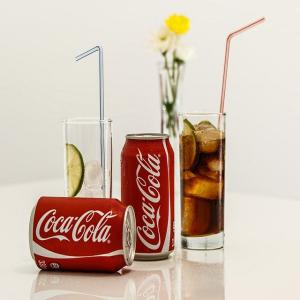Can: (29, 195, 138, 277), (120, 133, 177, 264)
